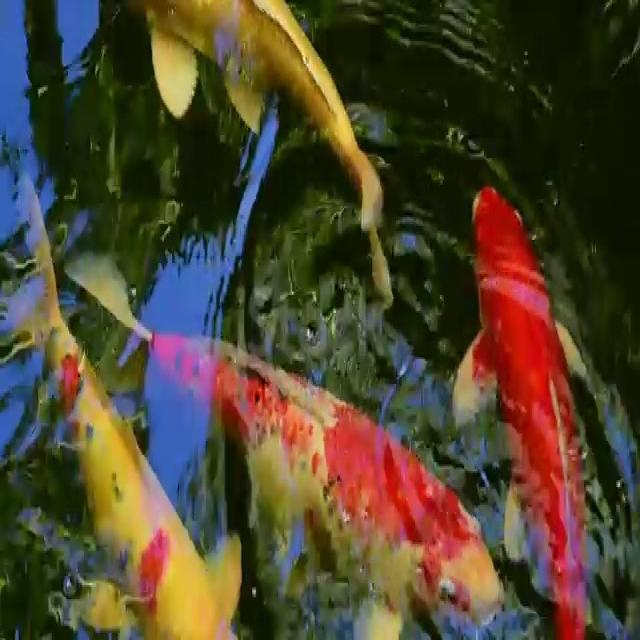fish: (0, 172, 253, 640), (125, 0, 399, 311), (451, 152, 618, 640), (256, 368, 501, 640)
